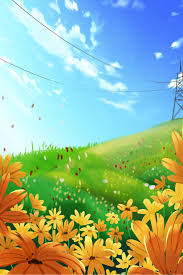flower: (10, 170, 183, 274)
sky: (1, 3, 175, 134)
